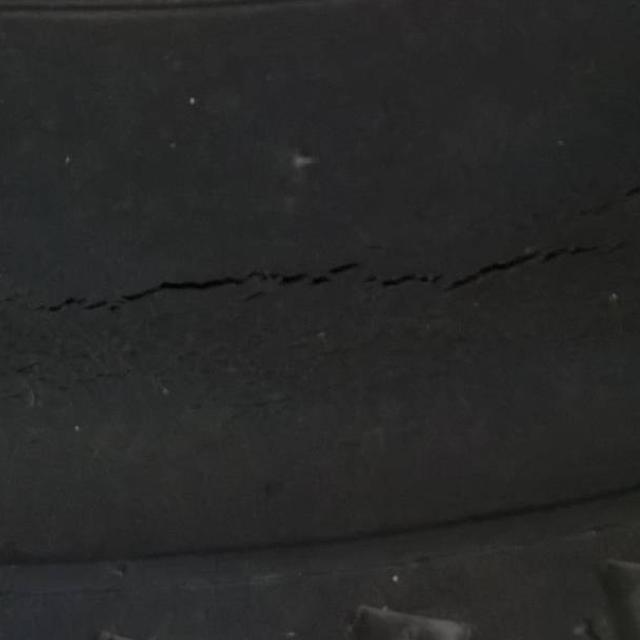Cracks: (11, 217, 630, 348)
